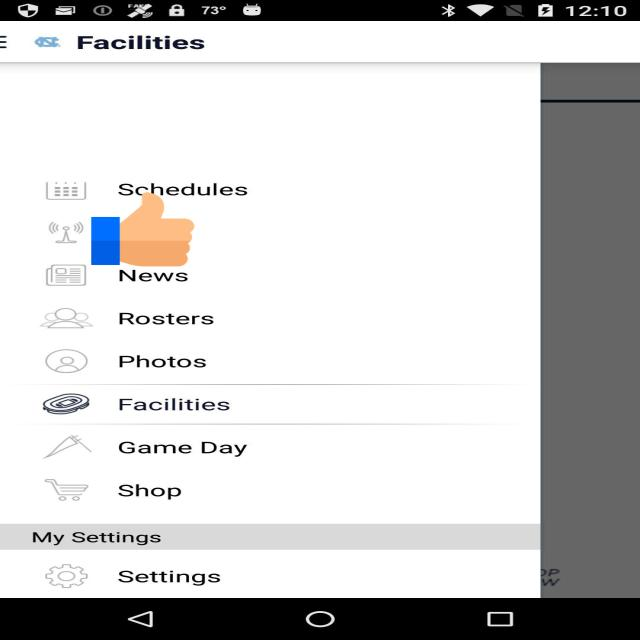privacy zuckering: (92, 191, 195, 268)
